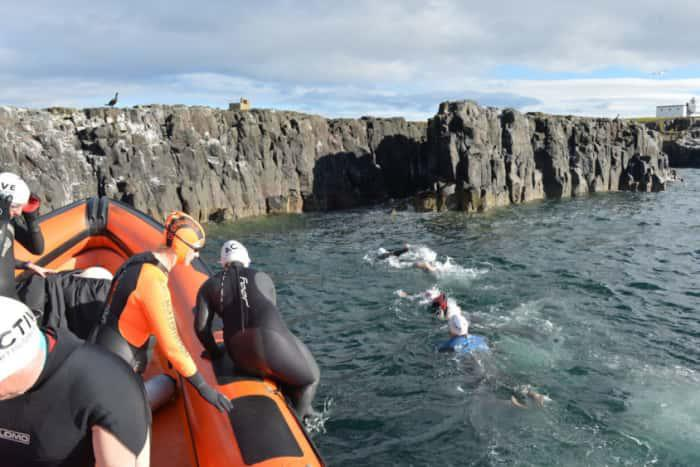swimmer: (436, 313, 490, 360)
